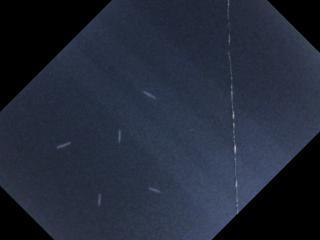crack: (222, 0, 242, 216)
scratch: (55, 138, 77, 153), (139, 88, 161, 102), (115, 125, 128, 145), (146, 183, 163, 197), (94, 190, 105, 211)
